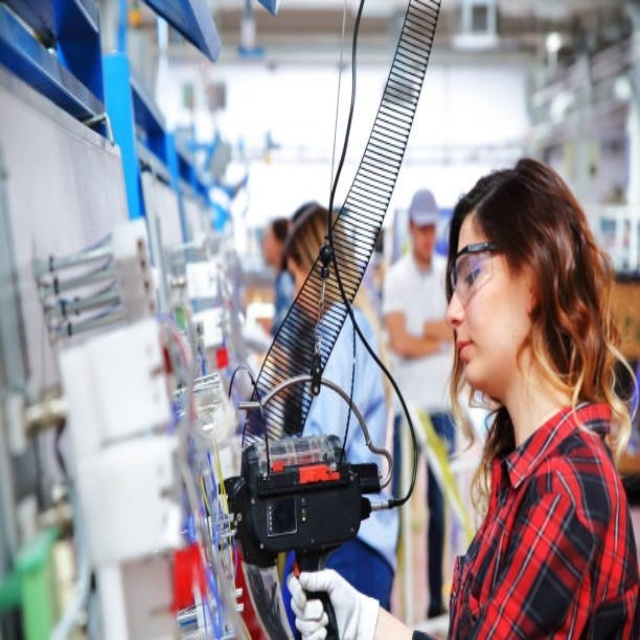Gafas: (449, 243, 503, 307)
Guantes: (293, 568, 381, 640)
Sin_mascara: (452, 322, 493, 383)
